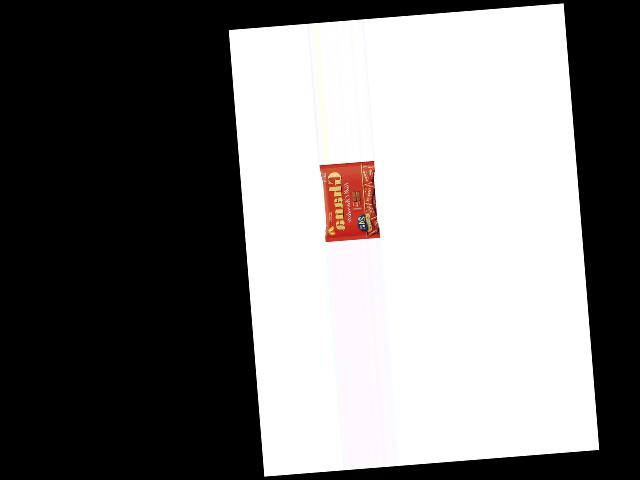chocolate: (320, 162, 382, 243)
